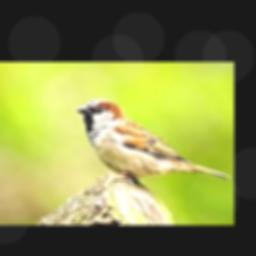Sparrow: (76, 98, 231, 186)
